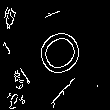O_NE: (30, 14, 92, 78)
